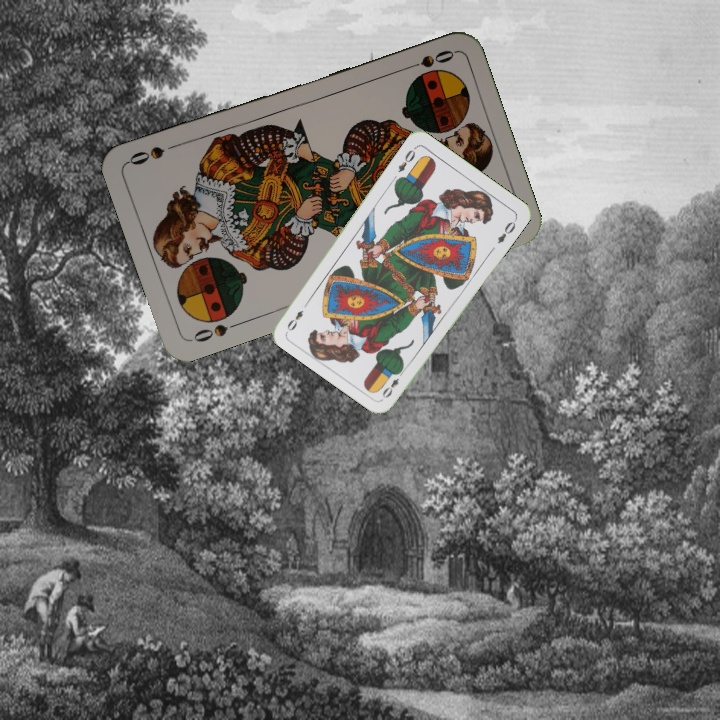EO: (378, 365, 407, 401), (394, 143, 419, 175)
SO: (187, 317, 244, 345), (399, 46, 457, 73)
